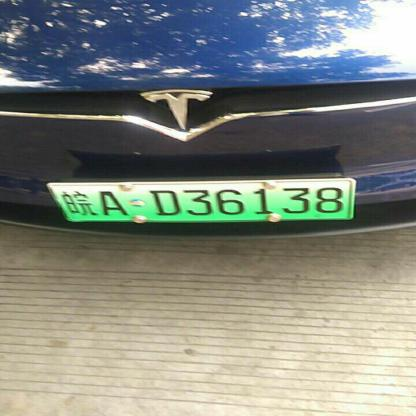lp: (49, 181, 70, 220)
